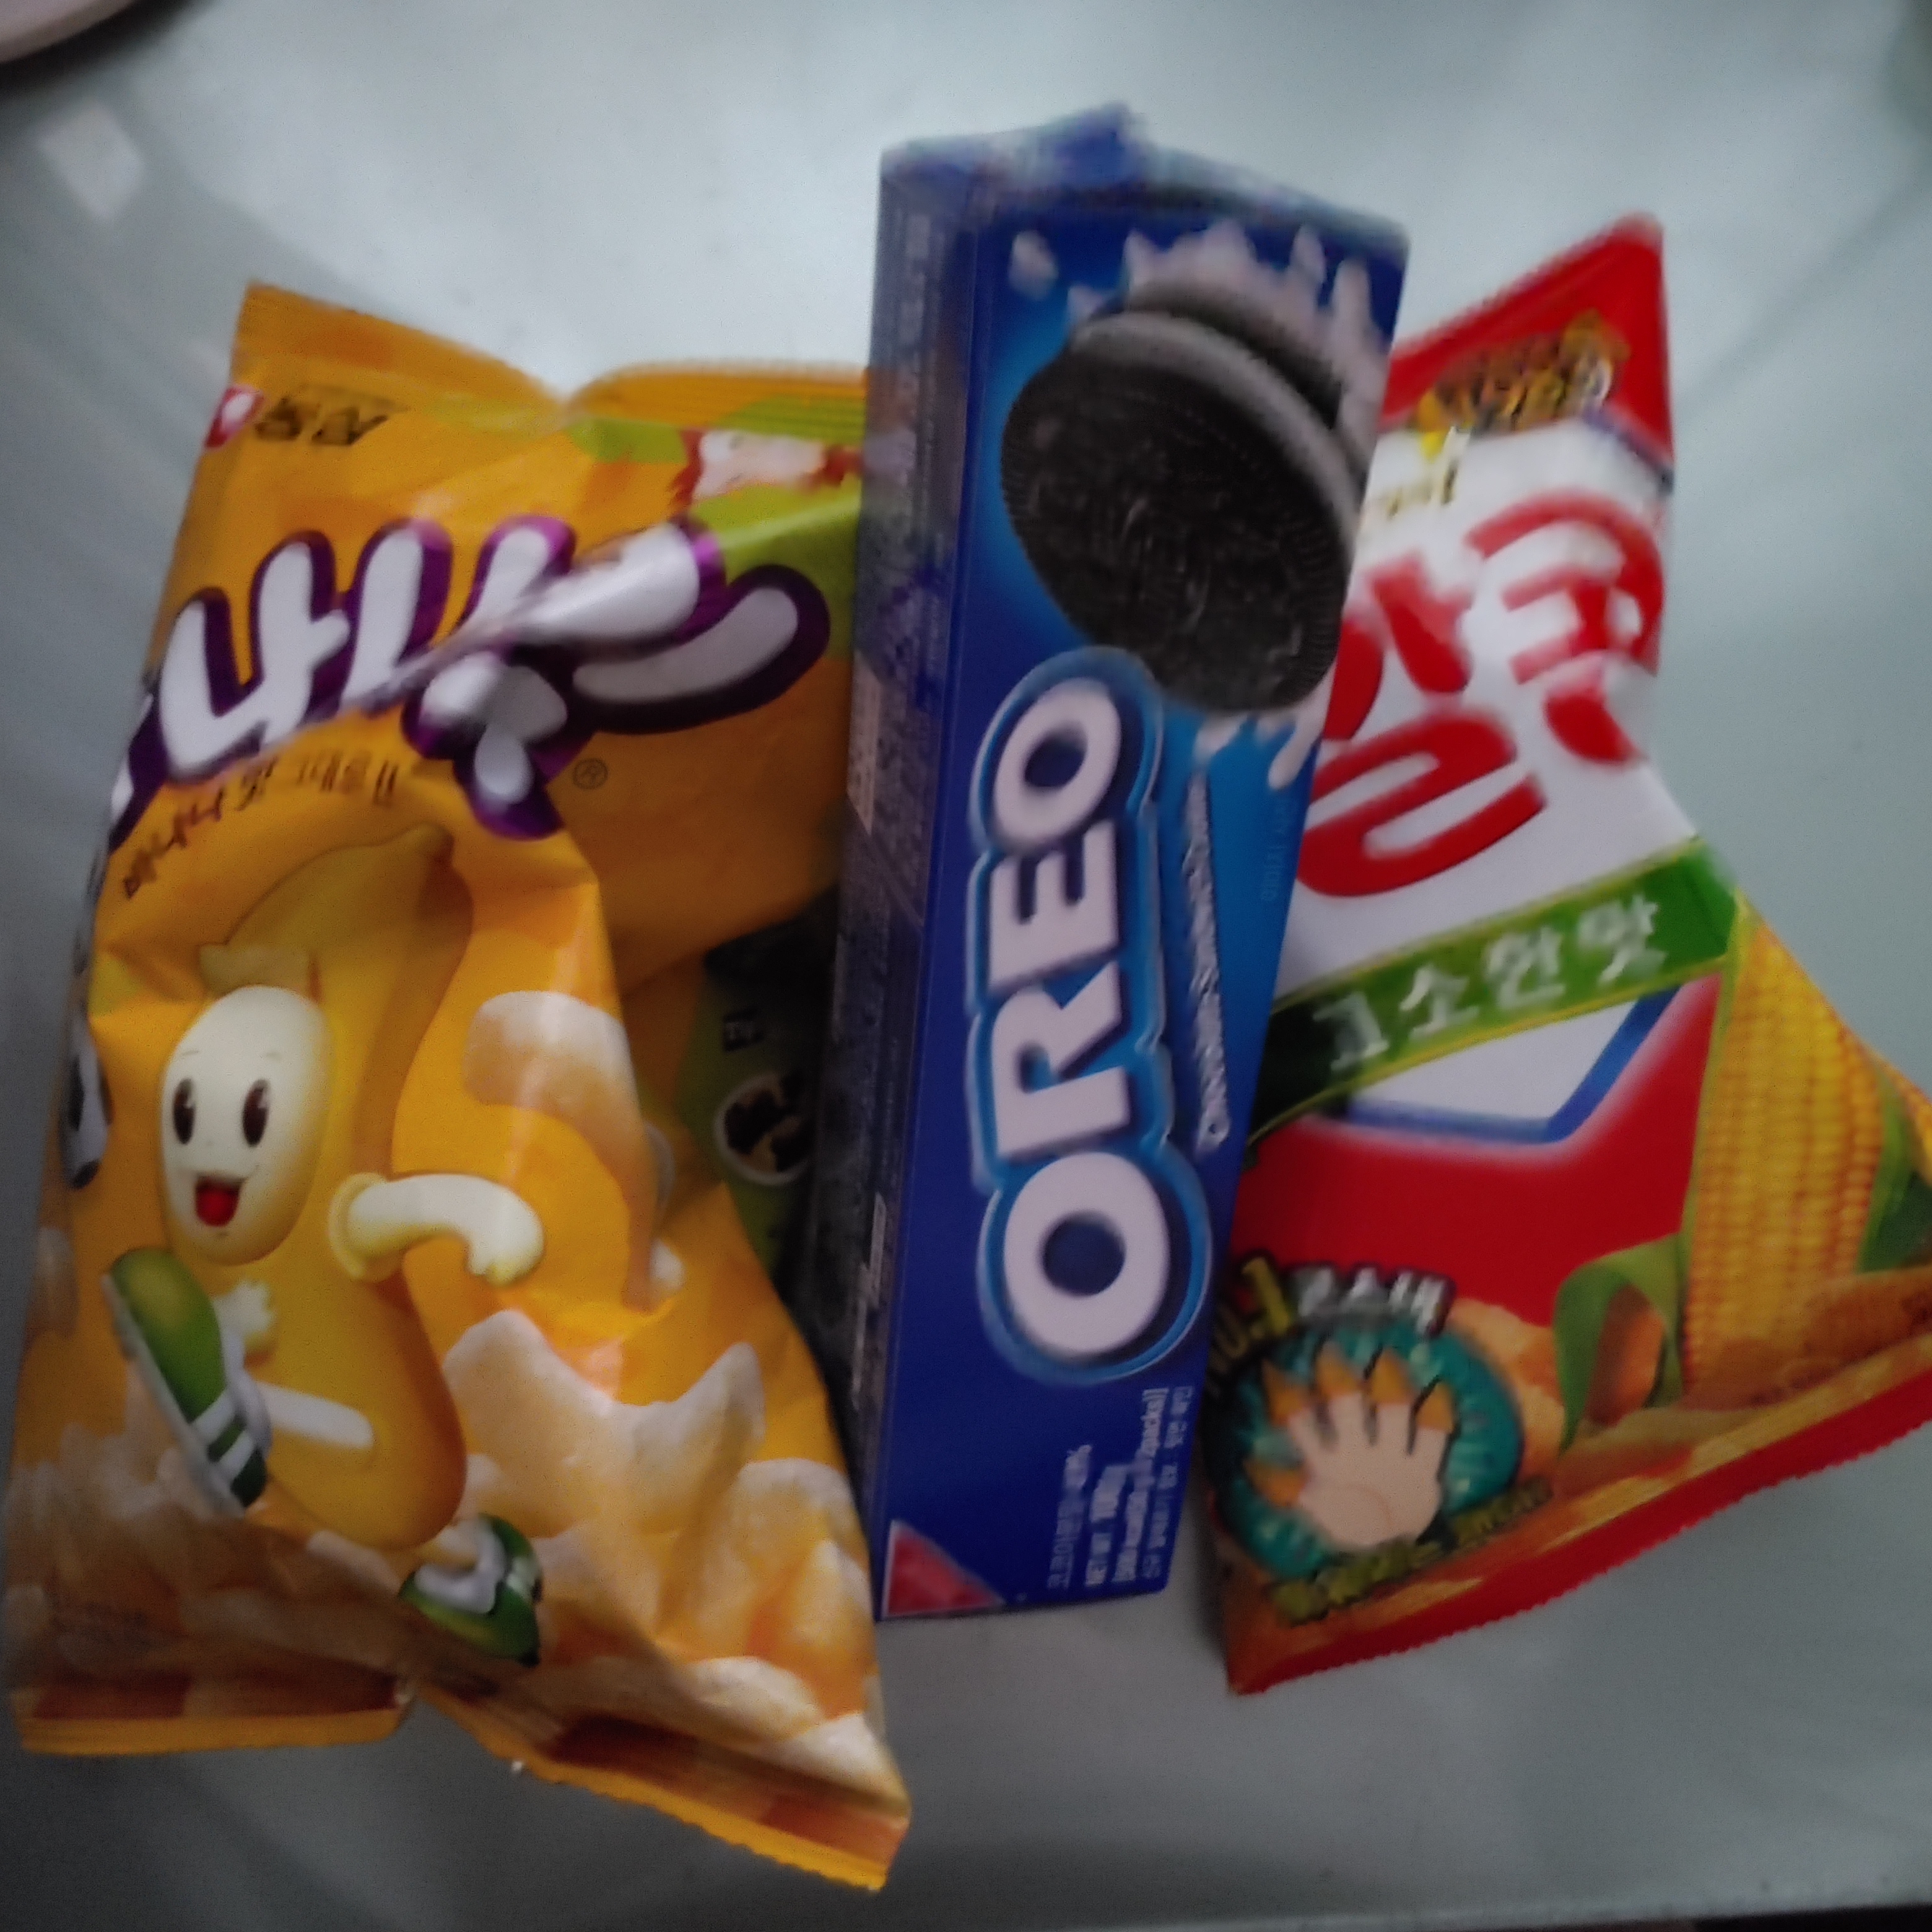banana: (7, 230, 1076, 1932)
ggoggalcon: (1143, 175, 1932, 1794)
oreo: (738, 57, 1465, 1707)
